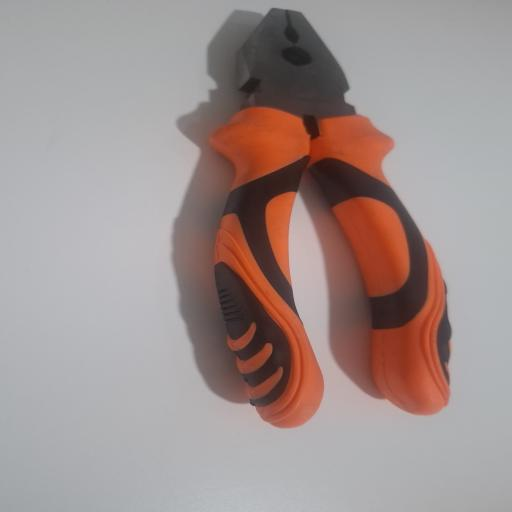alicate: (208, 8, 457, 429)
